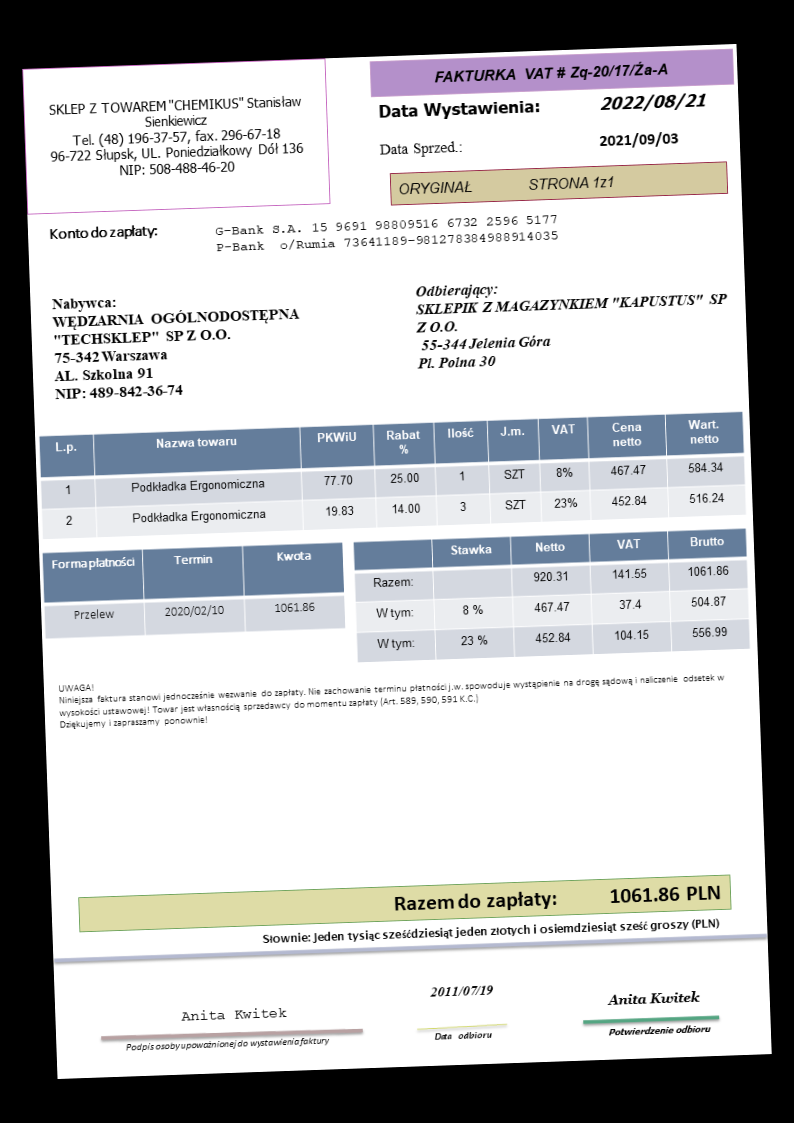Table: (37, 408, 748, 544), (349, 527, 751, 664), (41, 539, 349, 641)
TextBox: (55, 657, 729, 732), (411, 273, 731, 375), (47, 286, 307, 406), (41, 90, 310, 183), (259, 913, 722, 948), (209, 211, 562, 255), (390, 878, 724, 914), (428, 55, 675, 88), (396, 172, 616, 199), (375, 95, 544, 124), (121, 1033, 334, 1054), (599, 87, 709, 114), (44, 221, 161, 245), (178, 1004, 286, 1023), (374, 137, 467, 159), (603, 988, 704, 1008), (606, 1023, 715, 1039), (596, 131, 682, 151), (428, 982, 498, 999), (432, 1028, 497, 1042)
